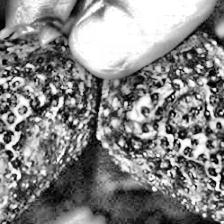Anthracnose Fruit Rot: (95, 29, 223, 224), (0, 89, 89, 224)
